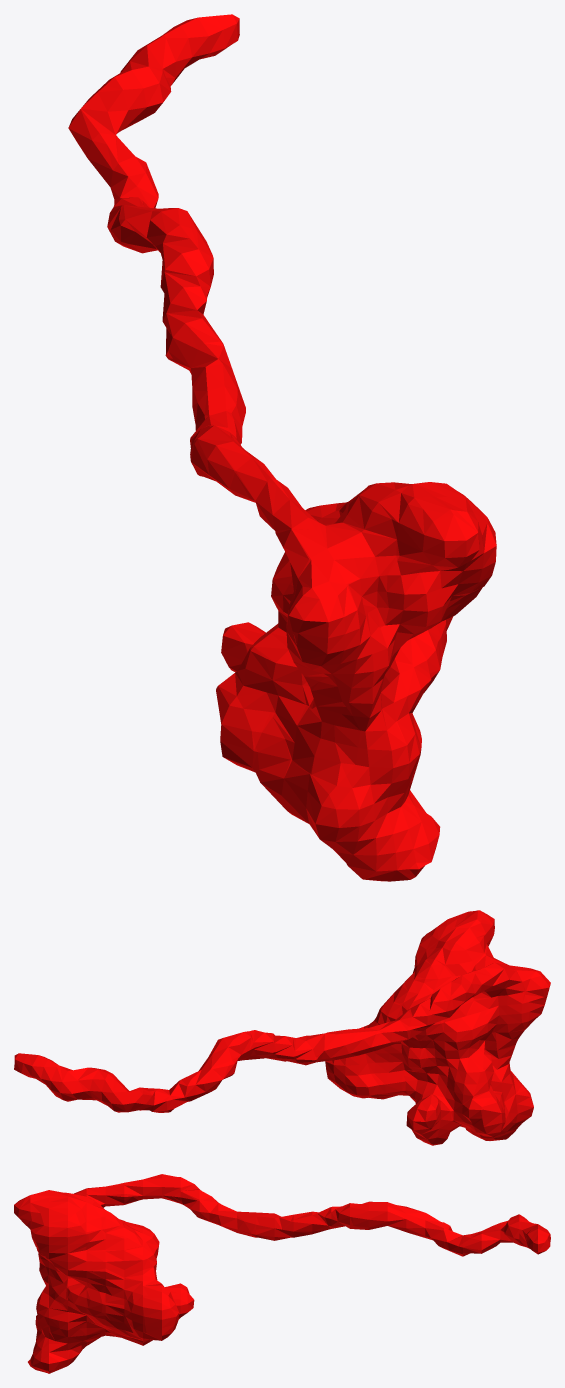
Rendered from treB_coarse.dae.
3 renders of one model, top to bottom at view 1: azimuth 30°, elevation 25°; view 2: azimuth 150°, elevation 25°; view 3: azimuth 270°, elevation 25°, orthographic. The views are drawn at different scales.
Parts seen in each view (by area): view 1: treB; view 2: treB; view 3: treB.
Boxes of the visible parts, x1,y1,x2,y2 form: treB: [68, 14, 496, 881]; treB: [14, 910, 550, 1145]; treB: [14, 1174, 550, 1373].
Bounding box in the file's own units: 98.13 × 91.8 × 207.
